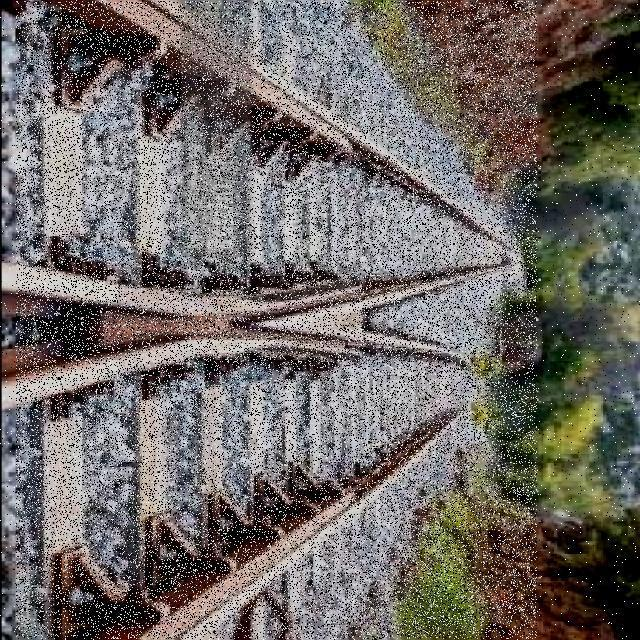rail: (17, 1, 537, 639)
